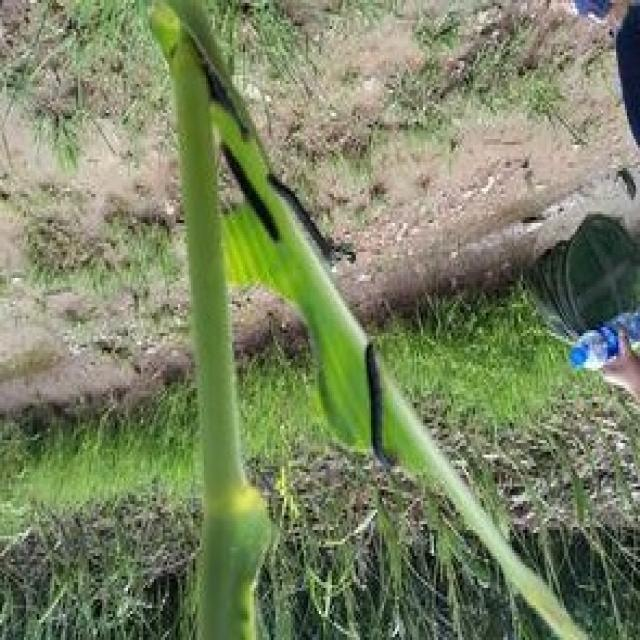army worm: (186, 30, 260, 152), (215, 137, 286, 253), (265, 172, 341, 270), (356, 330, 401, 472)
